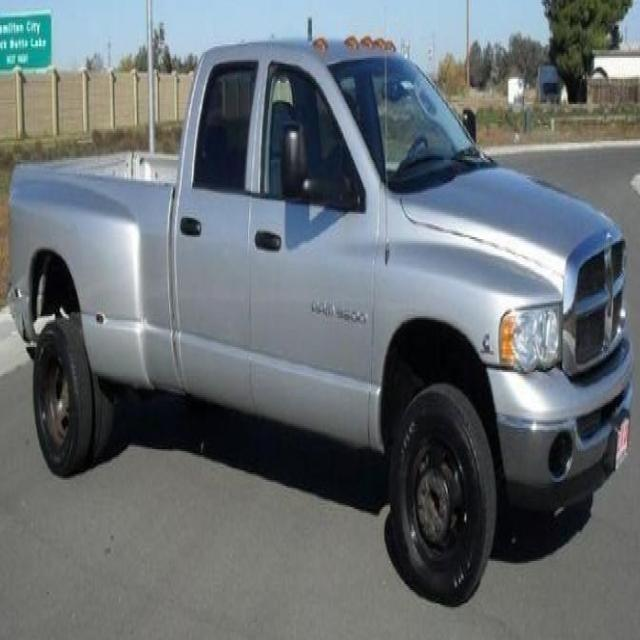CMT: (6, 44, 628, 638)
